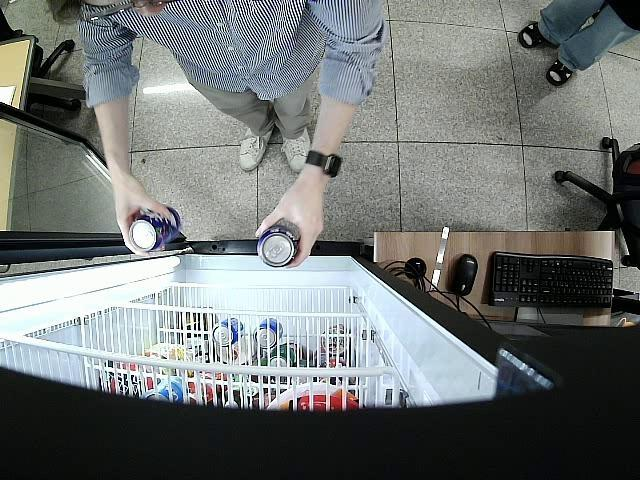14_welchsGrape: (128, 208, 180, 252), (256, 225, 299, 268)
